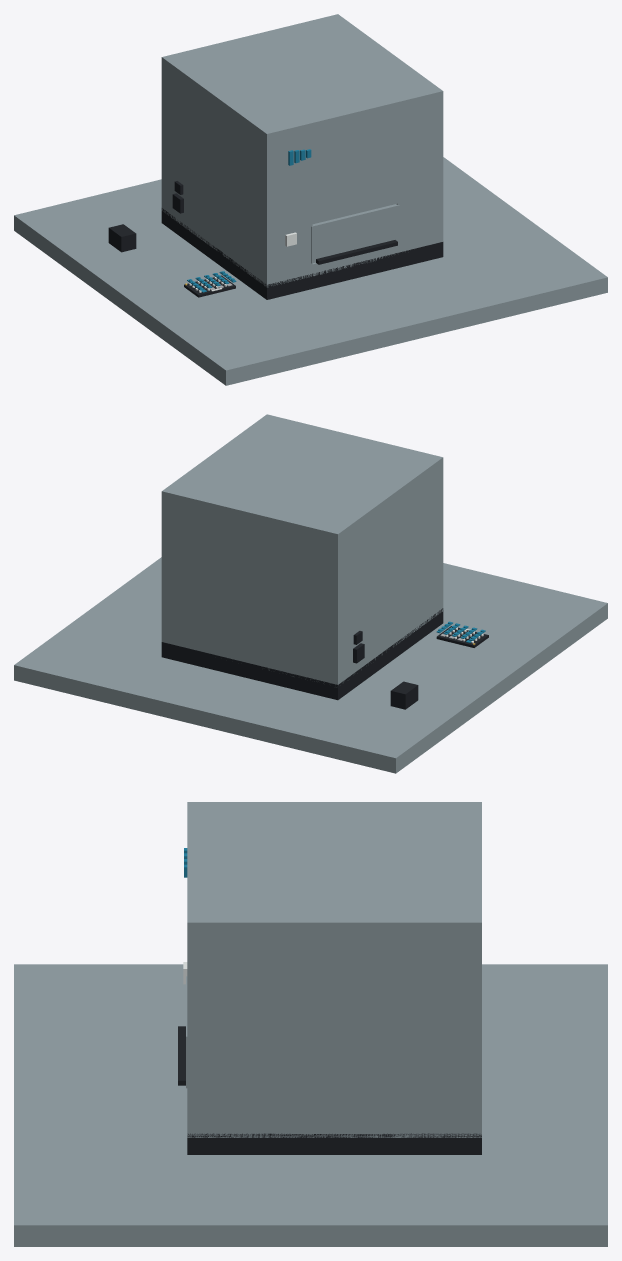
The model's file is absoluteq24.glb.
The picture shows the model from 3 angles, top to bottom: view 1: azimuth 30°, elevation 25°; view 2: azimuth 150°, elevation 25°; view 3: azimuth 270°, elevation 25°; orthographic projection. The views are drawn at different scales.
Parts seen in each view (by area): view 1: machine.body, environment.bench, machine.base, tray.front, power.plug, tray.floor; view 2: machine.body, environment.bench, machine.base, power.plug; view 3: environment.bench, machine.body, machine.base.
Part boxes in pixels (box(x1,y1,x2,y2)): machine.body: box(161, 14, 443, 287); environment.bench: box(14, 157, 607, 385); machine.base: box(161, 208, 443, 299); tray.front: box(311, 204, 399, 263); power.plug: box(108, 224, 136, 252); tray.floor: box(316, 240, 397, 264); machine.body: box(161, 414, 443, 687); environment.bench: box(14, 557, 607, 773); machine.base: box(161, 608, 443, 700); power.plug: box(390, 681, 418, 709); environment.bench: box(14, 964, 607, 1246); machine.body: box(187, 802, 481, 1137); machine.base: box(187, 1133, 481, 1154).
Bounding box in the file's own units: 1.3 × 0.59 × 1.25.
